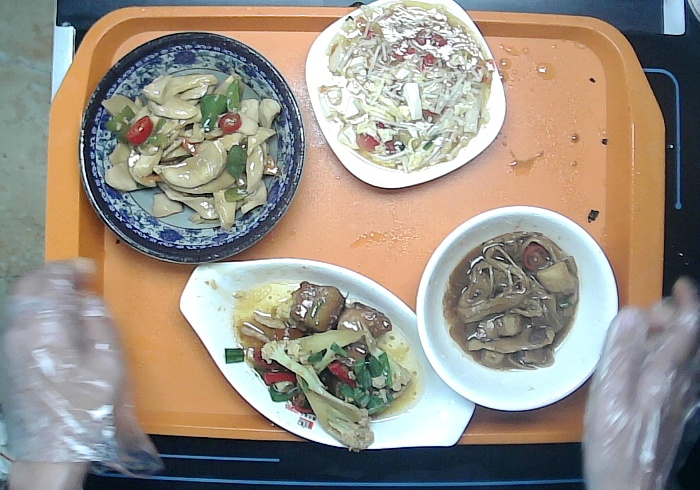ZNLD-Qing_Hua_Wan: (75, 25, 305, 253)
ZNLD-Si_Fang_Wan: (308, 1, 512, 202)
ZNLD-Tang_Wan: (412, 204, 624, 419)
ZNLD-Yu_Pan: (186, 253, 484, 460)
